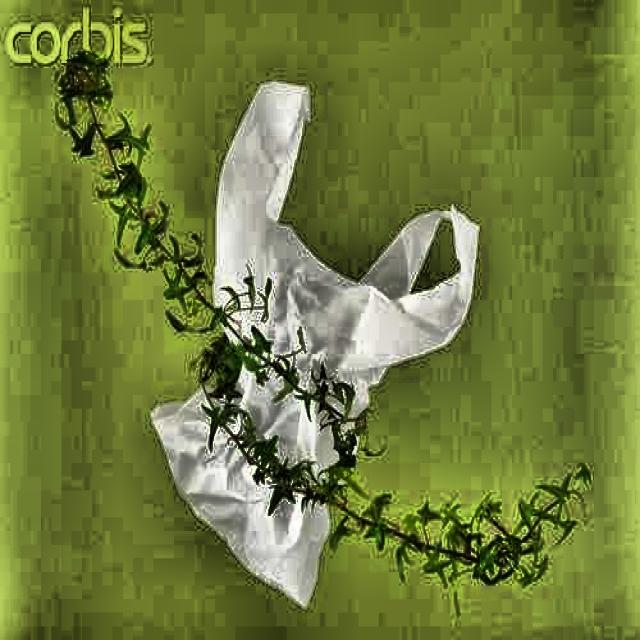Plastic: (167, 68, 495, 603)
